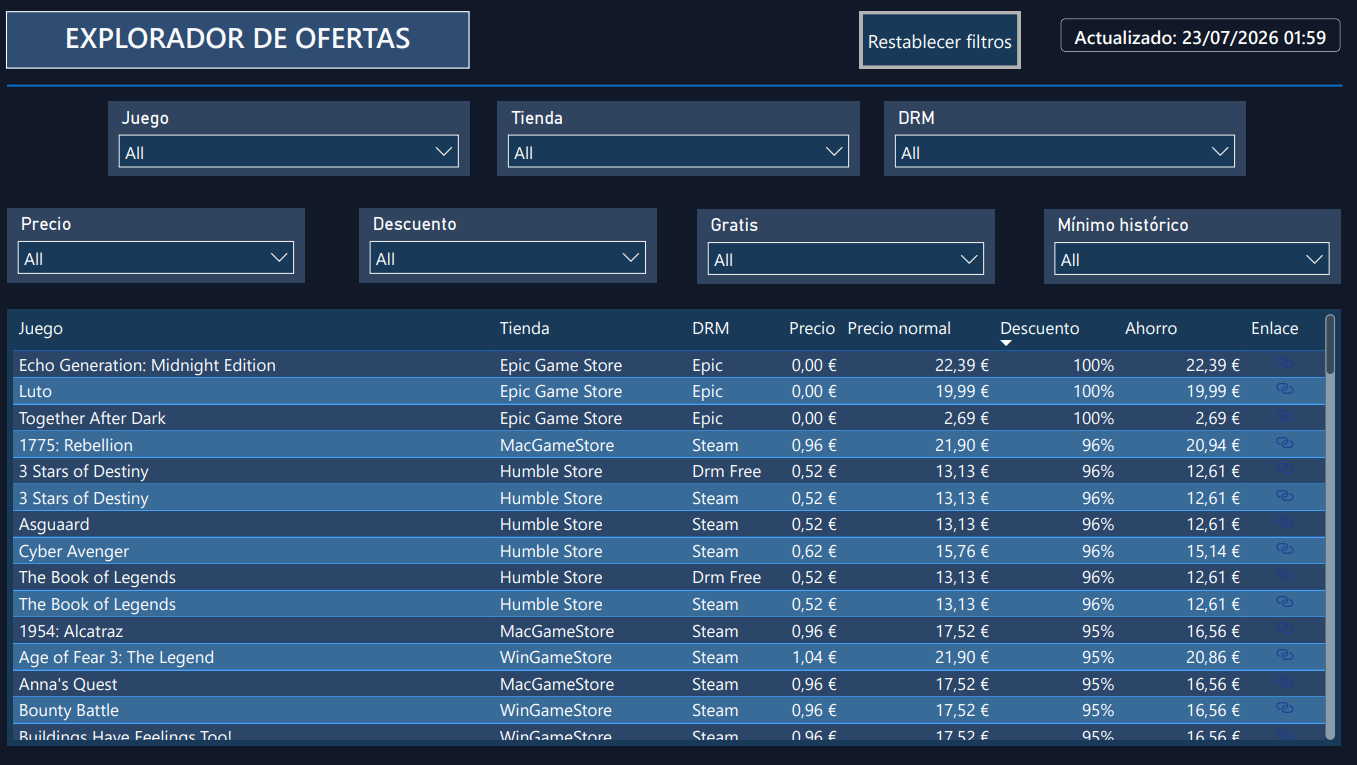

Layout of this report page (visuals, bound fields, positions):
{"tool":"powerbi","page":{"name":"Explorador","canvas":[1280,720],"ordinal":1},"visuals":[{"type":"textbox","box":[7.1,10,435.7,54.3],"z":0},{"type":"shape","box":[7.6,65.2,1256.1,30.3],"z":1000},{"type":"cardVisual","fields":{"Data":["Actualizacion.Última actualización"]},"box":[982.4,0,297.1,64.7],"z":2000},{"type":"slicer","fields":{"Values":["games.title"]},"box":[102.9,94.7,340.3,70],"z":3000},{"type":"slicer","fields":{"Values":["shops.shop_name"]},"box":[469.3,94.7,340.3,70],"z":4000},{"type":"slicer","fields":{"Values":["drms.drm_name"]},"box":[832.9,94.7,340.3,70],"z":5000},{"type":"slicer","fields":{"Values":["deals.price_range"]},"box":[8.2,194.9,279.9,70],"z":6000},{"type":"slicer","fields":{"Values":["deals.discount_range"]},"box":[338.9,194.9,279.9,70],"z":7000},{"type":"slicer","fields":{"Values":["deals.is_free"]},"box":[657.3,196.2,279.9,70],"z":8000},{"type":"slicer","fields":{"Values":["deals.is_historical_low"]},"box":[982.5,196.2,279.9,70],"z":9000},{"type":"tableEx","fields":{"Values":["games.title","shops.shop_name","drms.drm_name","deals.current_price","deals.regular_price","deals.discount_cut","deals.saving_amount","deals.url"]},"box":[8.2,289.5,1254.2,410.3],"z":10000},{"type":"actionButton","title":"Restablecer filtros","box":[810,10,151.4,54.3],"z":11000}]}

Visuals, with their boxes in screenshot pixels (x1, y1, x2, y2), scaled from the page's 1280x720 canvas onto the 1357x765 screenshot:
textbox: select_region(8, 11, 469, 68)
shape: select_region(8, 69, 1340, 101)
cardVisual - Actualizacion.Última actualización: select_region(1041, 0, 1356, 69)
slicer - games.title: select_region(109, 101, 470, 175)
slicer - shops.shop_name: select_region(498, 101, 858, 175)
slicer - drms.drm_name: select_region(883, 101, 1244, 175)
slicer - deals.price_range: select_region(9, 207, 305, 281)
slicer - deals.discount_range: select_region(359, 207, 656, 281)
slicer - deals.is_free: select_region(697, 208, 994, 283)
slicer - deals.is_historical_low: select_region(1042, 208, 1338, 283)
tableEx - games.title x shops.shop_name: select_region(9, 308, 1338, 744)
"Restablecer filtros" actionButton: select_region(859, 11, 1019, 68)
